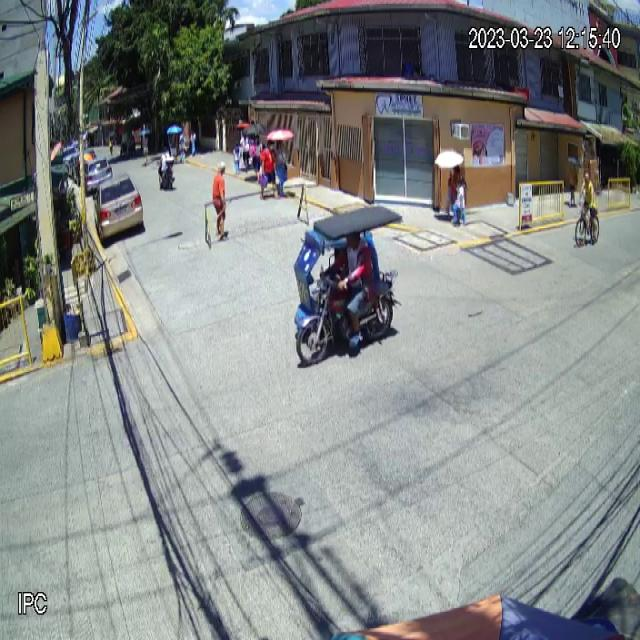Tricycle: (293, 205, 402, 370)
